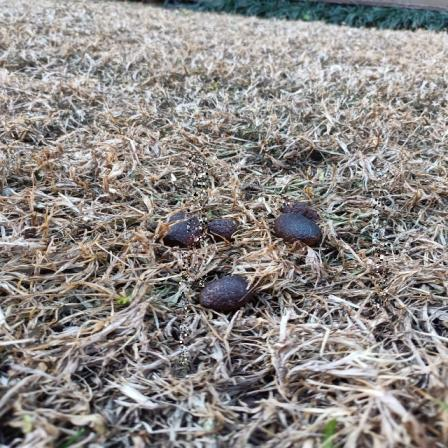dog-poop: (269, 198, 325, 244), (164, 207, 233, 244), (188, 274, 262, 307)
